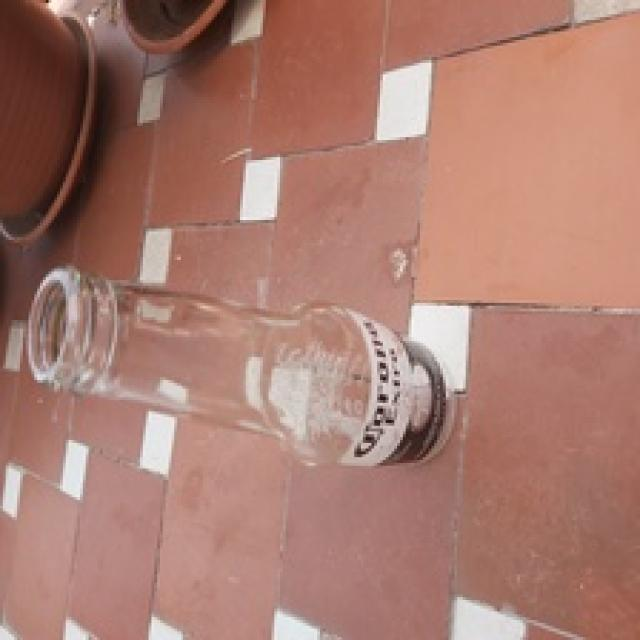Glass: (29, 267, 454, 468)
